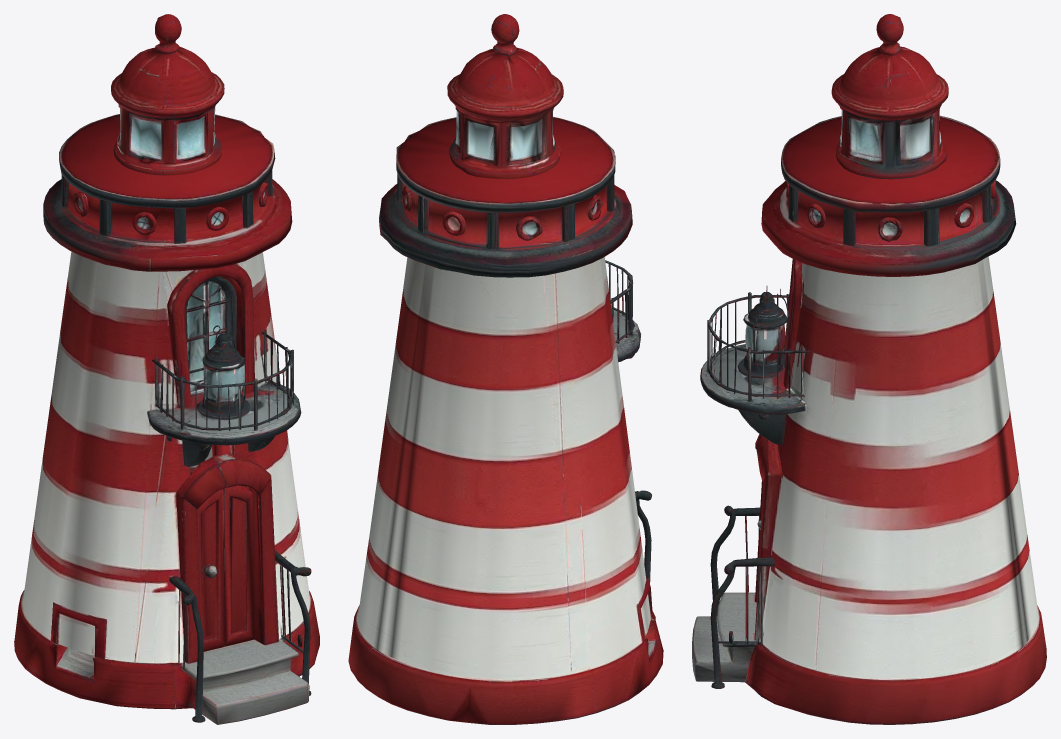
Rendered from lighthouse.glb.
3 views of the same model, side by side, from view 1: azimuth 30°, elevation 25°; view 2: azimuth 150°, elevation 25°; view 3: azimuth 270°, elevation 25° (orthographic). The views are drawn at different scales.
Size of the model in its own units: 0.4199 by 0.9512 by 0.4746.
Materials: 1 (1 with a texture image).
